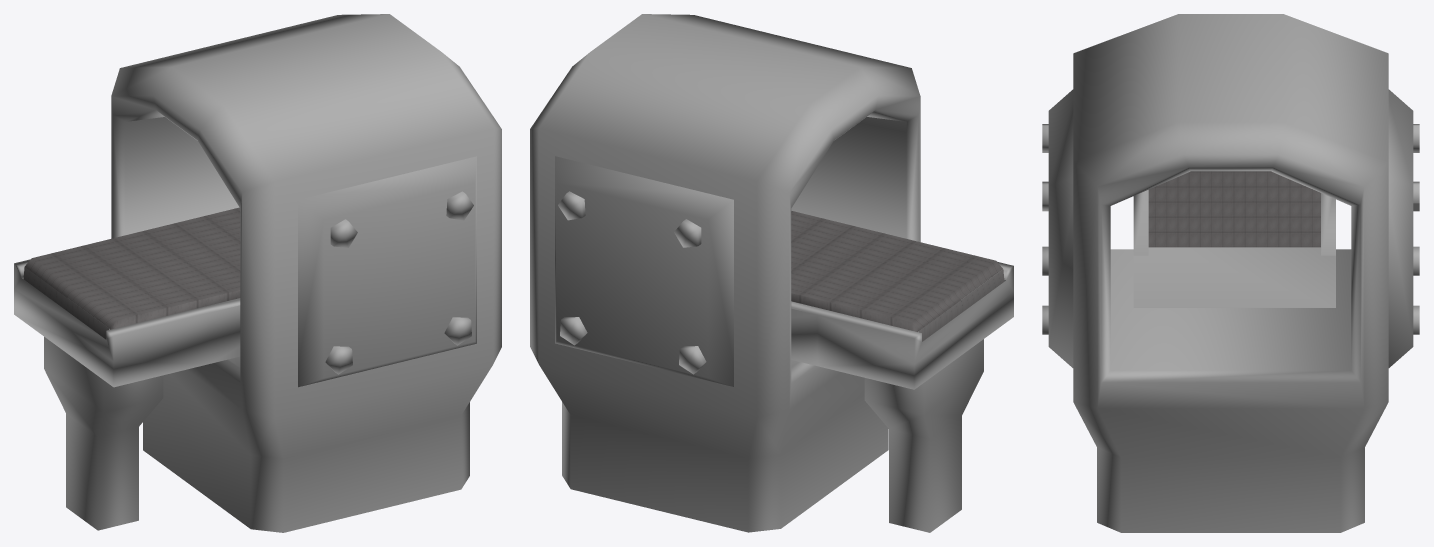
Rendered from ConveyorEnd_1.fbx.
The picture shows the model from 3 angles, left to right: view 1: azimuth 30°, elevation 25°; view 2: azimuth 150°, elevation 25°; view 3: azimuth 270°, elevation 25°; orthographic projection.
Parts seen in each view (by area): view 1: Crafter_4:polySurface4polySurface3ItemGroup1; view 2: Crafter_4:polySurface4polySurface3ItemGroup1; view 3: Crafter_4:polySurface4polySurface3ItemGroup1.
Boxes of the visible parts, x1,y1,x2,y2 form: Crafter_4:polySurface4polySurface3ItemGroup1: [14, 14, 501, 532]; Crafter_4:polySurface4polySurface3ItemGroup1: [530, 14, 1013, 532]; Crafter_4:polySurface4polySurface3ItemGroup1: [1042, 14, 1419, 532].
Size of the model in its own units: 223 by 233 by 193.
Materials: 2 (1 with a texture image).
